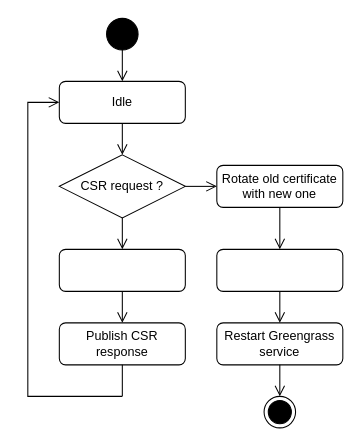
Some shapes in this 361 by 446 pixel diagram are drawn without their labels. The shapes that lost their labels are listed below. From the top down, each one's centre as x and y in pixels, then its label:
(121,269): Create new CSR
(279,269): Publish certificate acknowledgement
